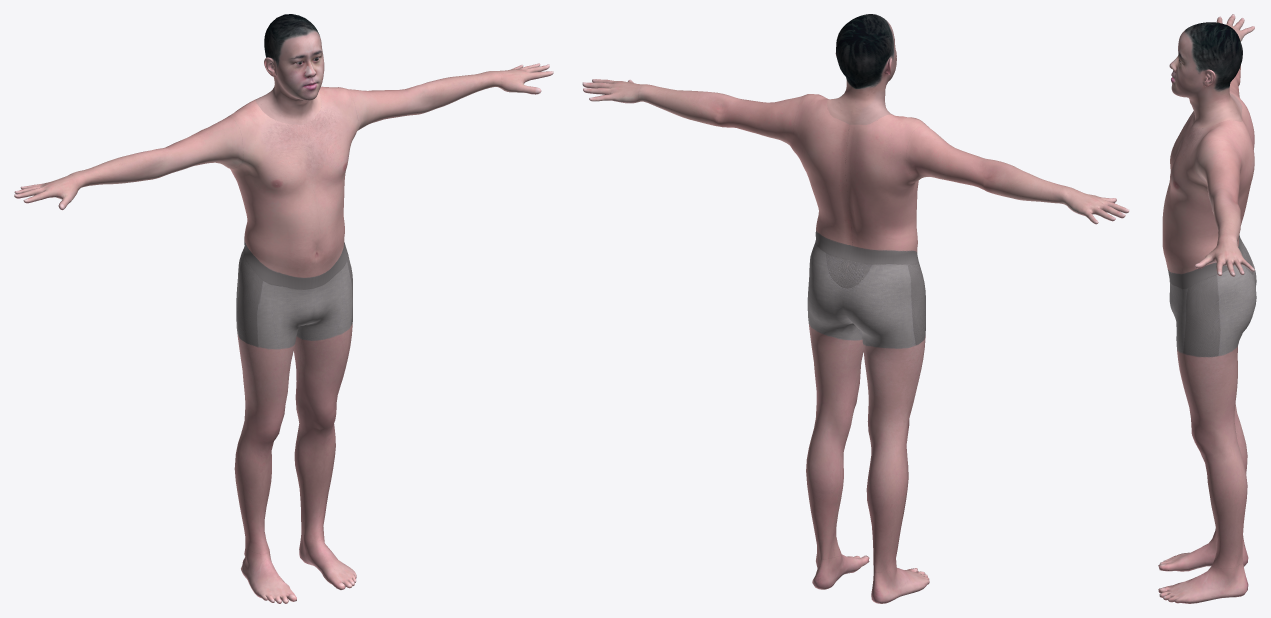
File: full_body.obj
3 views of the same model, side by side, from view 1: azimuth 30°, elevation 25°; view 2: azimuth 150°, elevation 25°; view 3: azimuth 270°, elevation 25° (orthographic).
Size of the model in its own units: 1.86 by 1.86 by 0.2966.
Materials: 1 (1 with a texture image).
